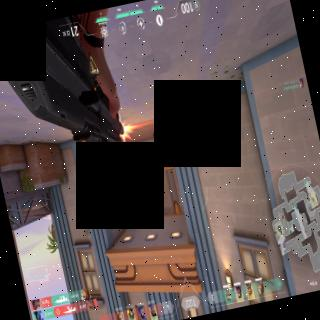ENEMY-BODY: (152, 129, 164, 162), (297, 76, 305, 88)
ENEMY-HEAD: (158, 156, 162, 162)
